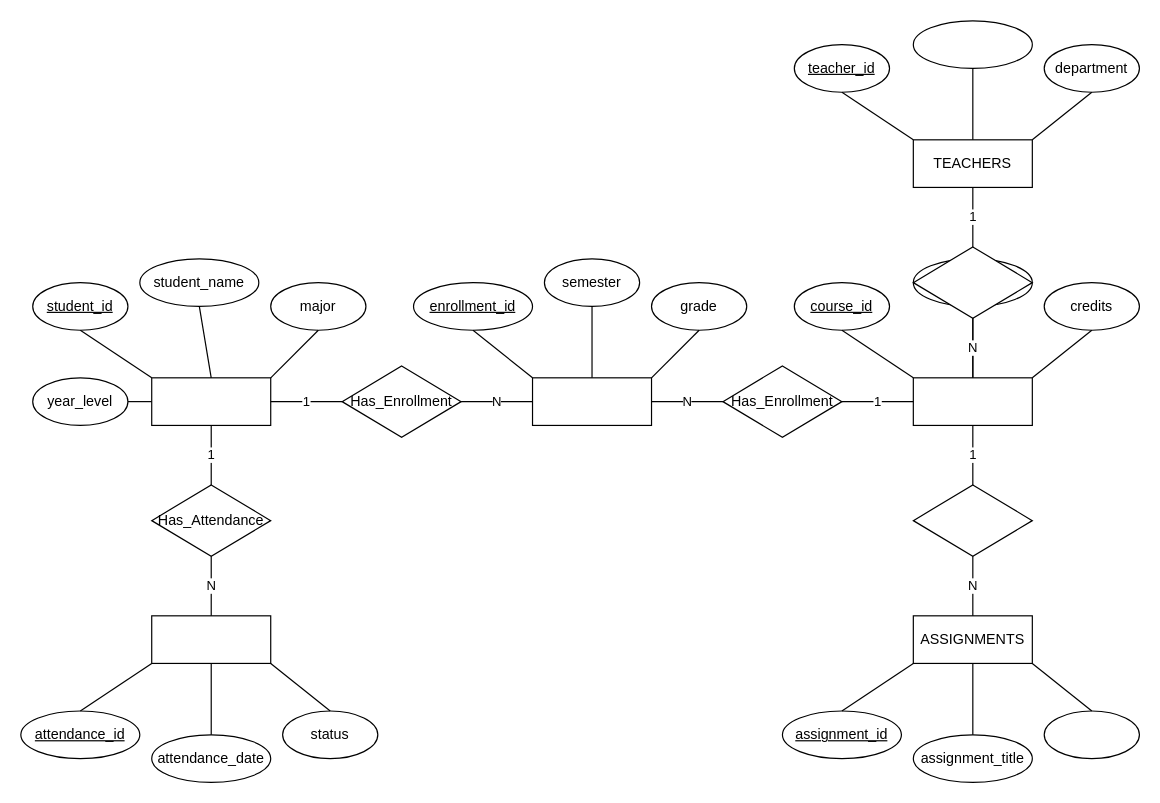
Some shapes in this 1160 by 803 pixel diagram are drawn without their labels. Here are the shapes that lost their labels. From the top down, the box of each, then its label:
(912, 20, 1032, 68): teacher_name
(912, 246, 1032, 318): Teaches
(151, 377, 271, 425): STUDENTS
(531, 377, 652, 425): ENROLLMENTS
(912, 377, 1032, 425): COURSES
(912, 484, 1032, 556): Has_Assignment
(151, 615, 271, 663): ATTENDANCE
(1043, 710, 1139, 759): due_date
